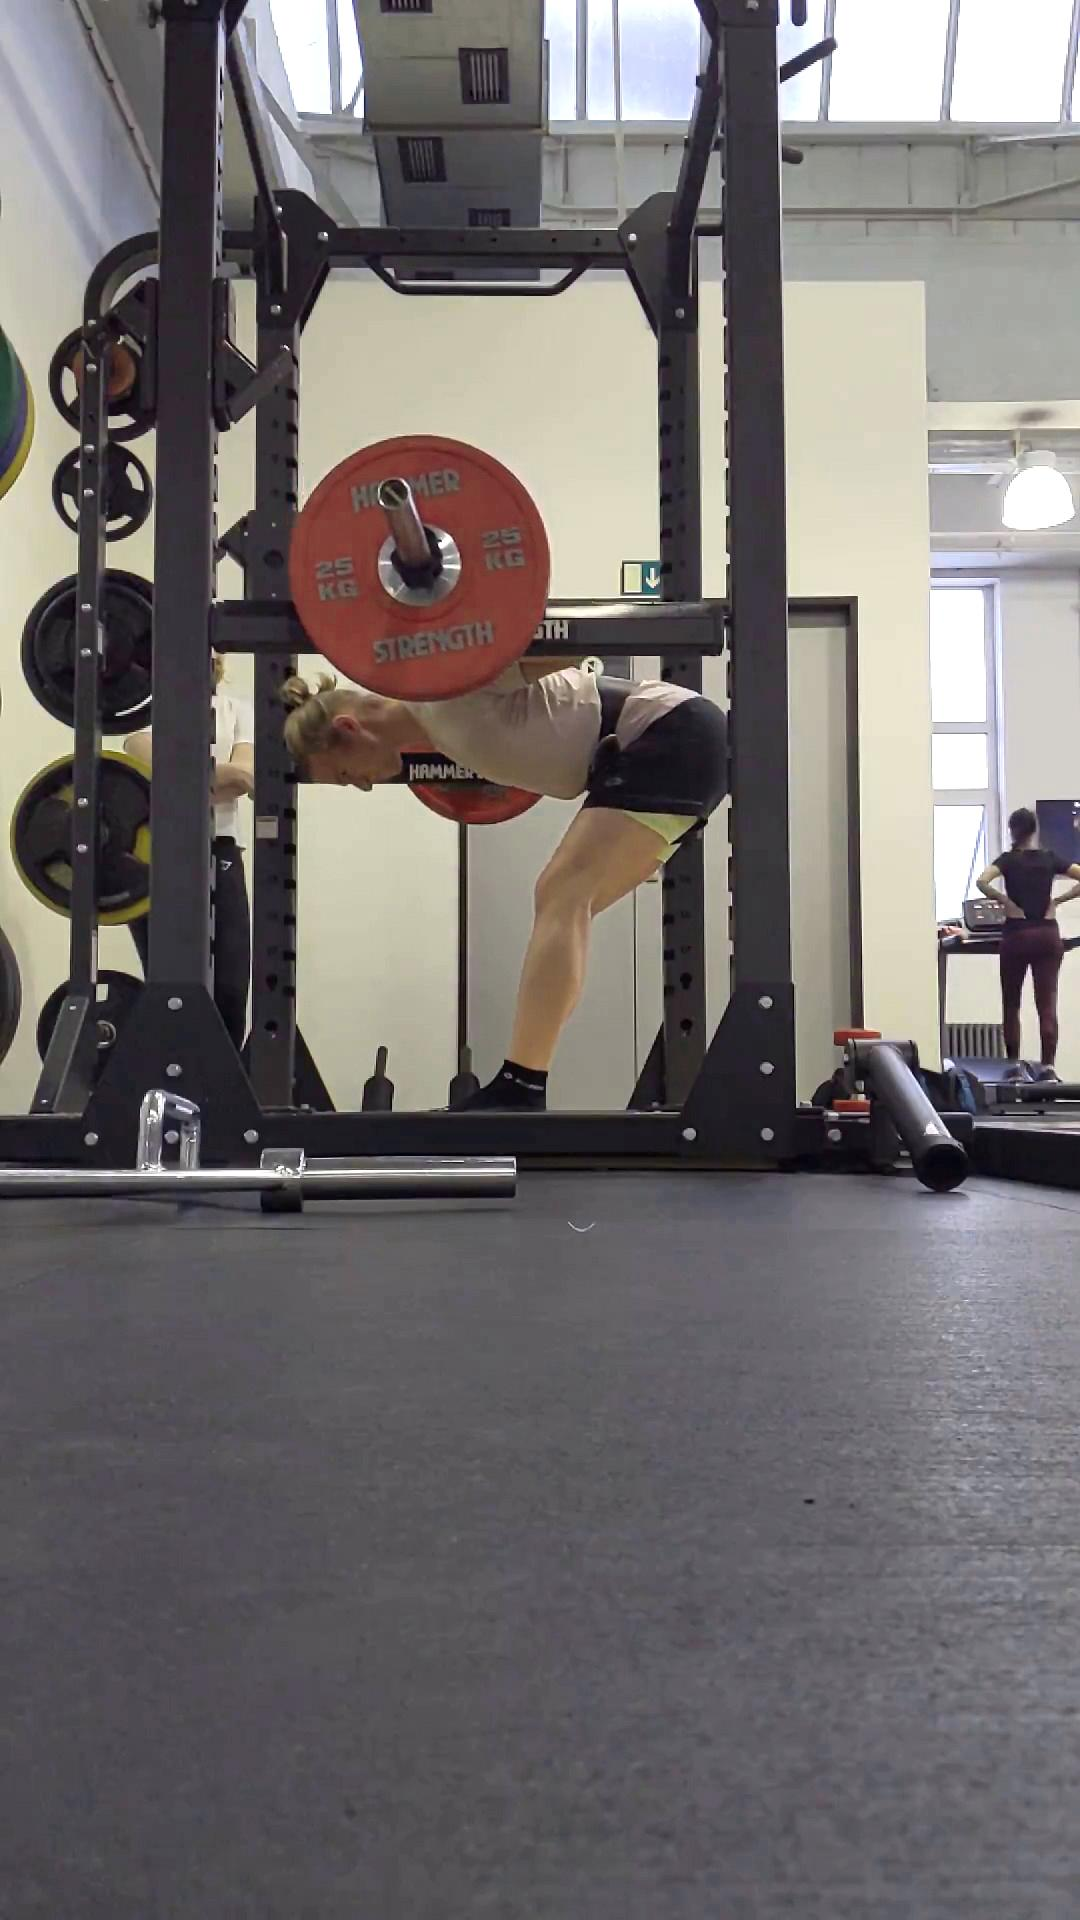barbell: (287, 433, 549, 702)
